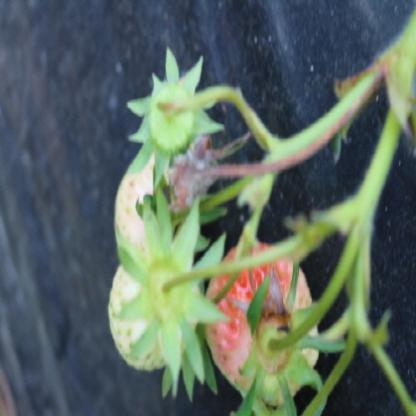Strawberry_Gray_Mold: (166, 136, 235, 214)
